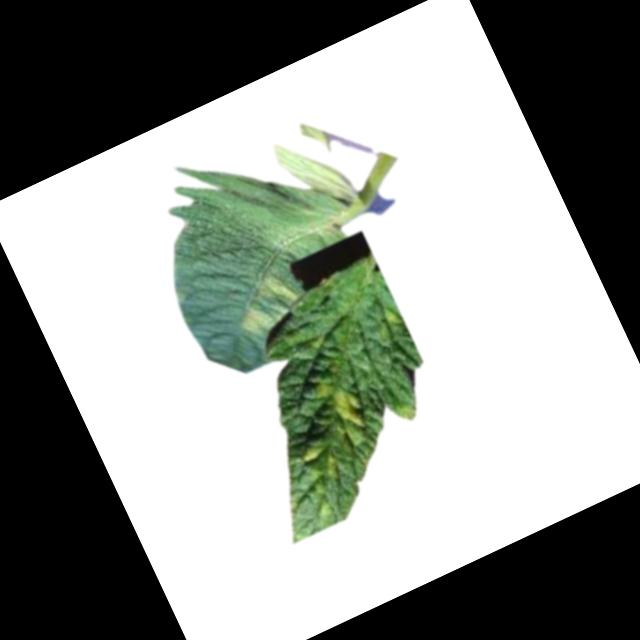Leaf_Mold: (309, 370, 375, 451), (293, 437, 343, 491), (249, 265, 301, 315), (234, 301, 275, 340)
